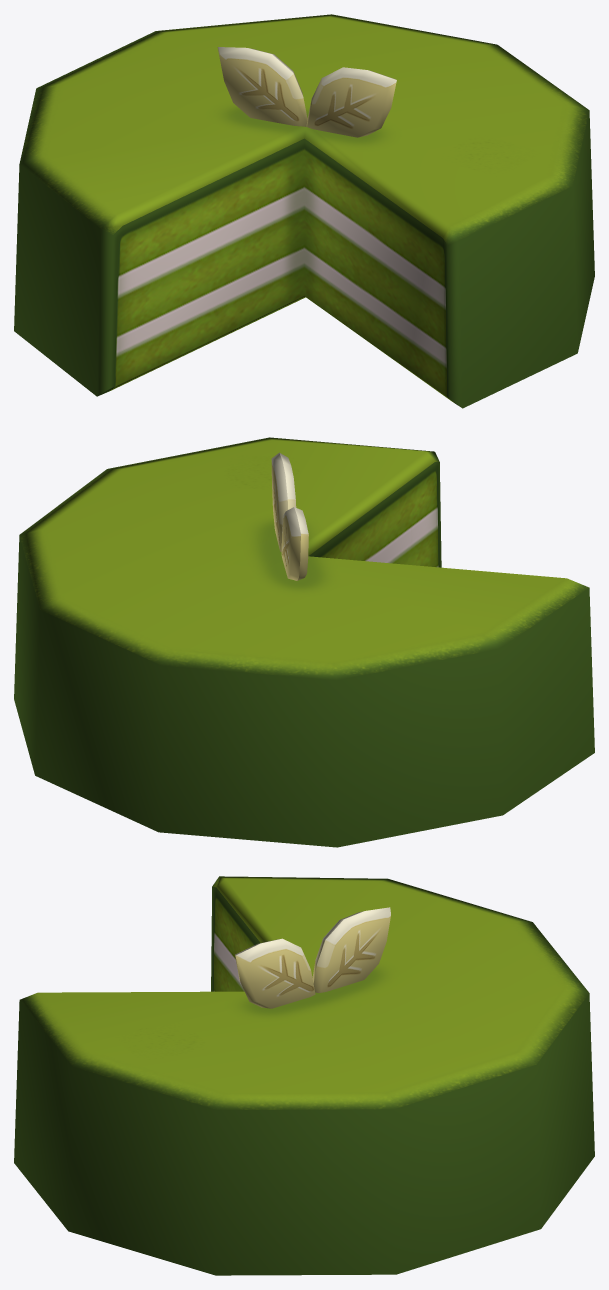
Rendered from Matcha_Cut.fbx.
3 renders of one model, top to bottom at view 1: azimuth 30°, elevation 25°; view 2: azimuth 150°, elevation 25°; view 3: azimuth 270°, elevation 25°, orthographic.
Visible parts, largest first — view 1: Matcha_Cut; view 2: Matcha_Cut; view 3: Matcha_Cut.
Part boxes in pixels (x1,y1,x2,y2): Matcha_Cut: (14, 14, 594, 408); Matcha_Cut: (14, 437, 594, 847); Matcha_Cut: (14, 876, 594, 1275).
Size of the model in its own units: 79.49 by 36.52 by 81.97.
